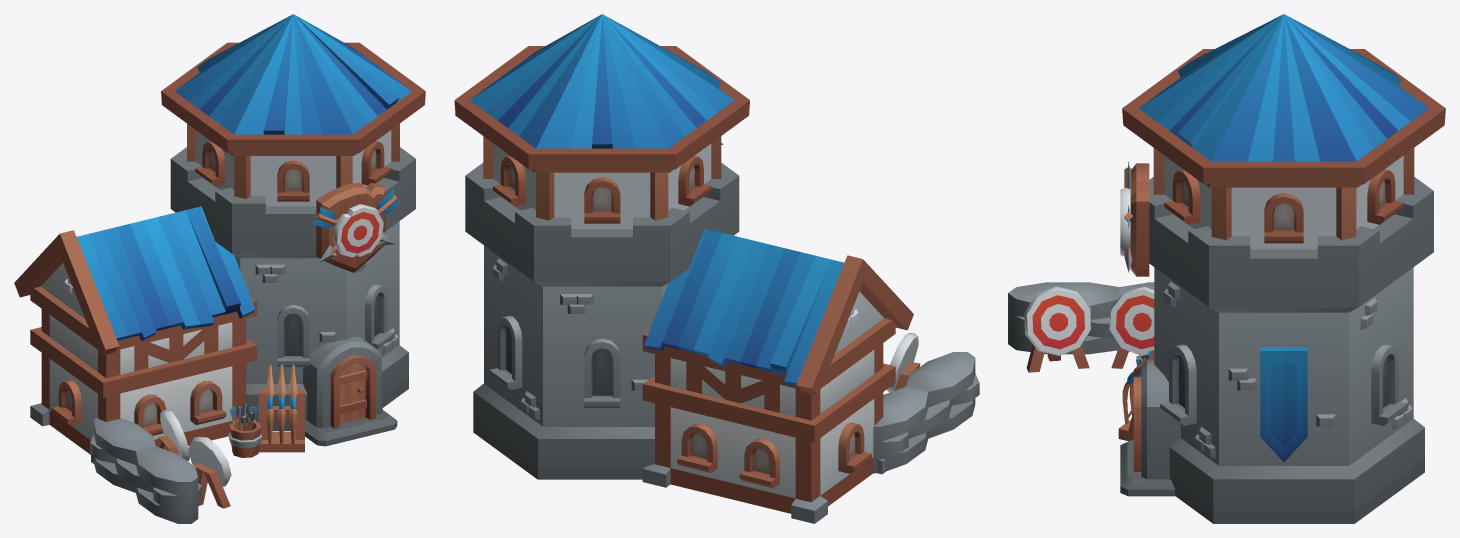
File: building_archeryrange_blue.gltf
The picture shows the model from 3 angles, left to right: view 1: azimuth 30°, elevation 25°; view 2: azimuth 150°, elevation 25°; view 3: azimuth 270°, elevation 25°; orthographic projection. The views are drawn at different scales.
Visible parts, largest first — view 1: building_archeryrange_blue; view 2: building_archeryrange_blue; view 3: building_archeryrange_blue.
Part boxes in pixels (x1=…): building_archeryrange_blue: x1=14, y1=14, x2=425, y2=523; building_archeryrange_blue: x1=454, y1=14, x2=979, y2=523; building_archeryrange_blue: x1=1008, y1=14, x2=1445, y2=523.
Size of the model in its own units: 1.67 by 1.79 by 1.55.
1 material, 1 textured.
